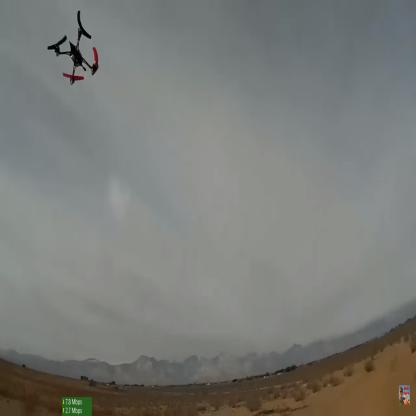drone: (45, 5, 110, 99)
